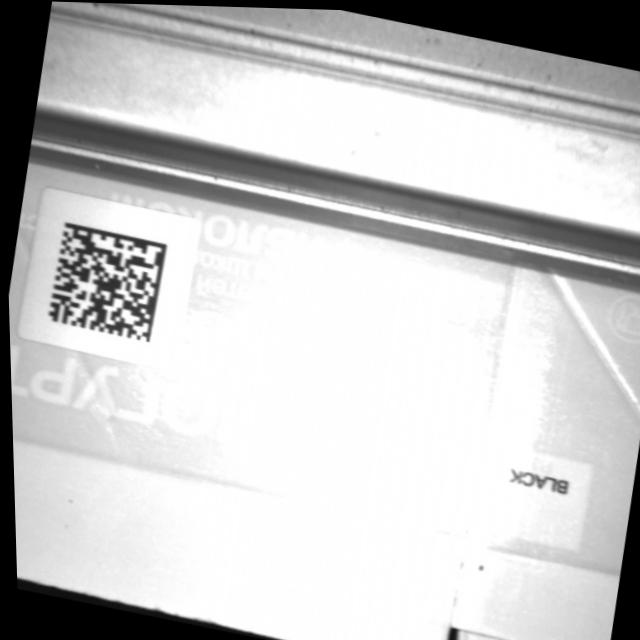datamatrix: (43, 220, 170, 344)
